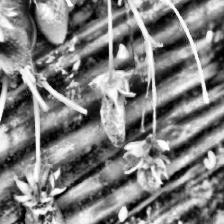Gray Mold: (89, 70, 137, 148), (123, 132, 170, 192)
